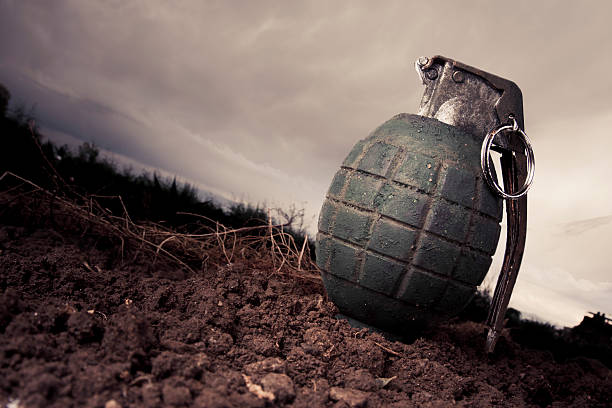e1: (313, 51, 538, 349)
